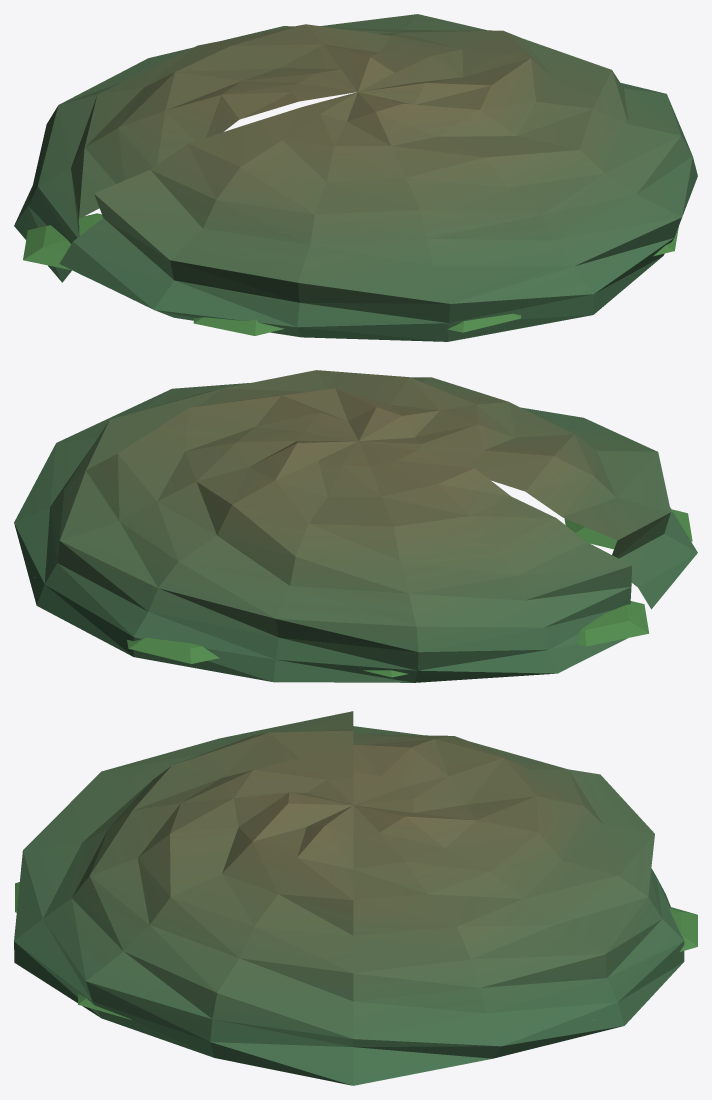
The model's file is lawnHill.glb.
3 views of the same model, one above another, from view 1: azimuth 30°, elevation 25°; view 2: azimuth 150°, elevation 25°; view 3: azimuth 270°, elevation 25° (orthographic). The views are drawn at different scales.
Parts seen in each view (by area): view 1: n1, n7, n6, n5; view 2: n1, n7, n9, n6; view 3: n1, n9.
Boxes of the visible parts, bbox=[...] form: n1: bbox=[14, 14, 697, 341]; n7: bbox=[23, 213, 103, 270]; n6: bbox=[193, 317, 284, 335]; n5: bbox=[447, 313, 521, 332]; n1: bbox=[14, 370, 697, 682]; n7: bbox=[577, 601, 649, 646]; n9: bbox=[127, 637, 219, 663]; n6: bbox=[564, 509, 692, 549]; n1: bbox=[14, 711, 684, 1085]; n9: bbox=[669, 907, 697, 951].
Bounding box in the file's own units: 5.96 × 1.15 × 5.45.
